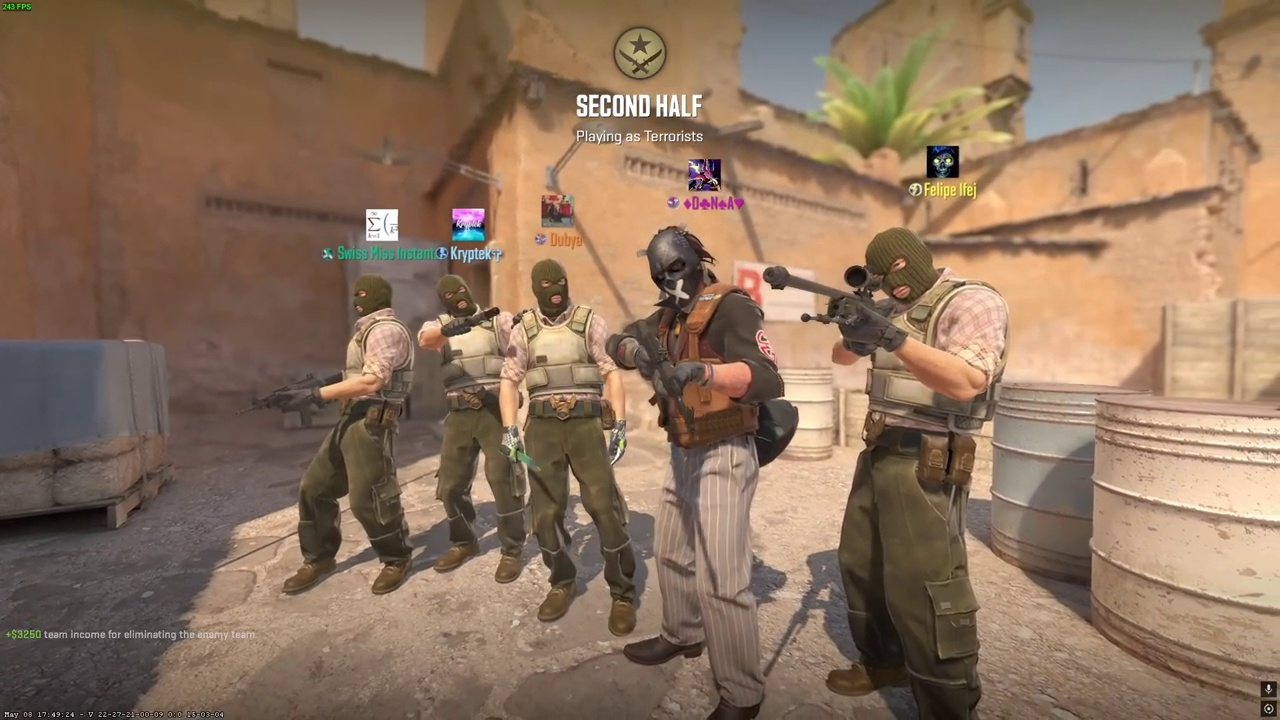Terrorist: (812, 227, 1011, 720), (614, 225, 798, 720), (506, 258, 637, 637), (281, 274, 415, 595), (421, 274, 526, 584)
